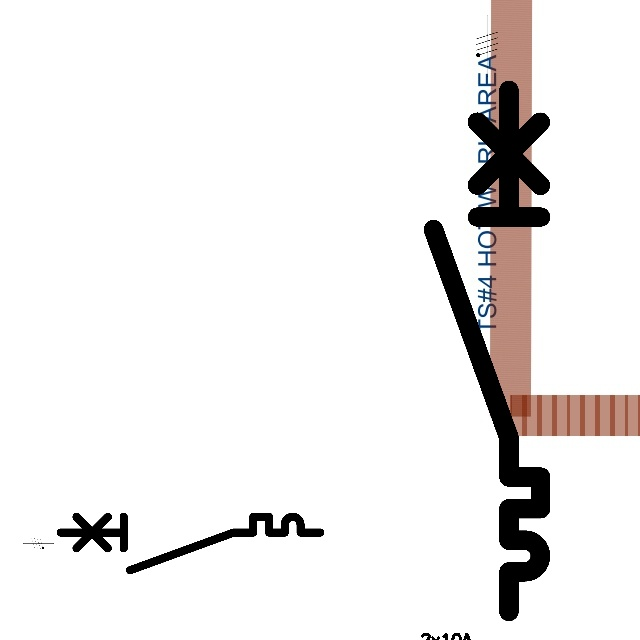interruptor_termomagnetico: (420, 77, 554, 625), (53, 510, 326, 577)
